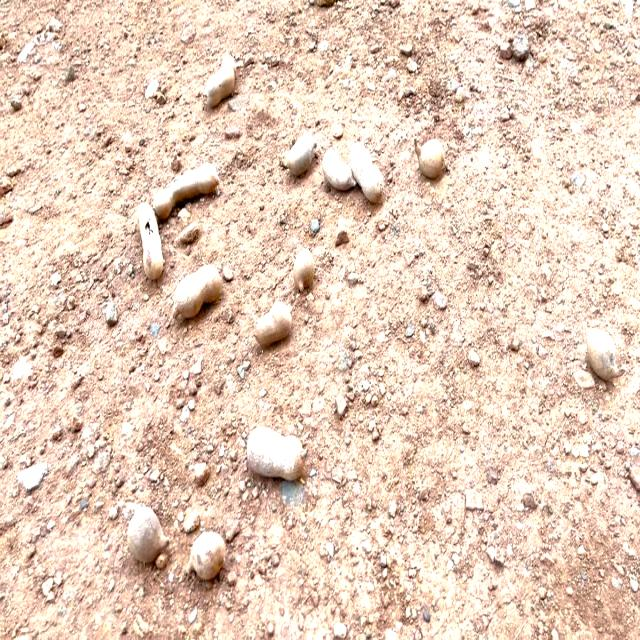tamarind: (154, 154, 221, 226), (245, 421, 310, 492), (124, 502, 173, 578), (131, 194, 168, 293), (170, 264, 224, 324), (270, 123, 324, 176), (583, 323, 626, 389), (349, 135, 385, 208), (186, 528, 228, 588), (197, 59, 245, 110), (251, 303, 295, 348), (413, 137, 457, 181), (289, 240, 319, 299), (322, 146, 355, 194)
